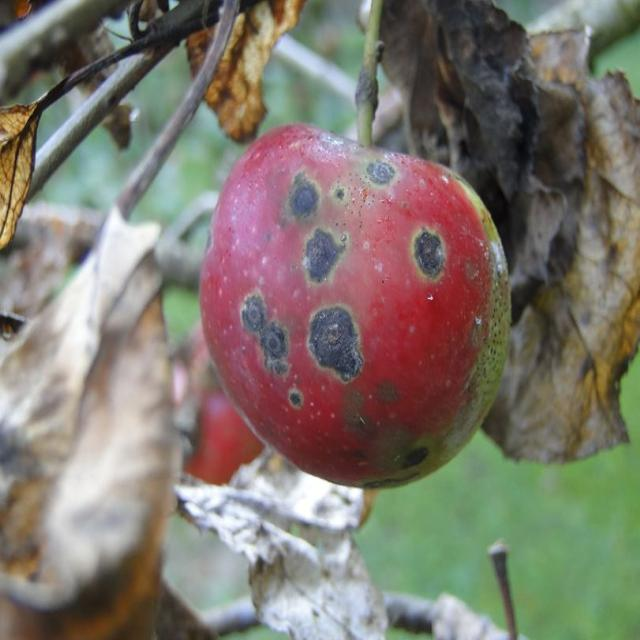Rotten Apple: (196, 90, 528, 501)
